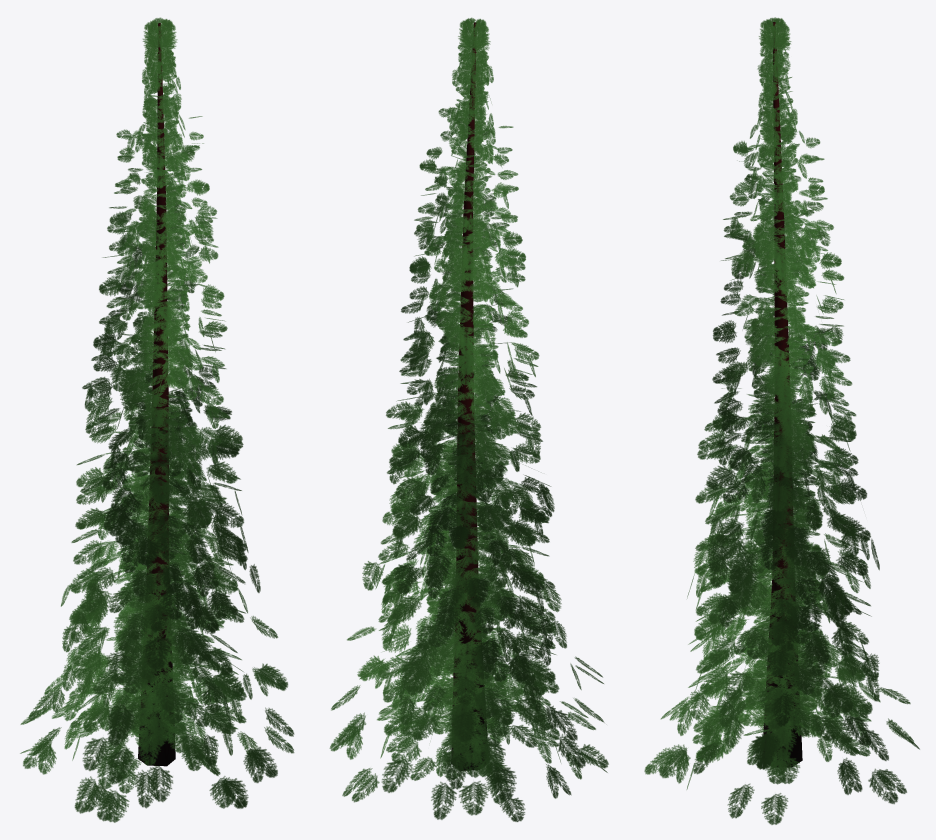
The model's file is spruce_conifer_v02_LOD2.glb.
3 renders of one model, left to right at view 1: azimuth 30°, elevation 25°; view 2: azimuth 150°, elevation 25°; view 3: azimuth 270°, elevation 25°, orthographic.
Parts seen in each view (by area): view 1: spruce_conifer_v02_LOD2; view 2: spruce_conifer_v02_LOD2; view 3: spruce_conifer_v02_LOD2.
Part boxes in pixels (x1,y1,x2,y2): spruce_conifer_v02_LOD2: (20,17,294,822); spruce_conifer_v02_LOD2: (329,17,608,821); spruce_conifer_v02_LOD2: (644,17,919,824).
Bounding box in the file's own units: 9.85 × 29.09 × 9.69.
Materials: 2 (2 with a texture image).
